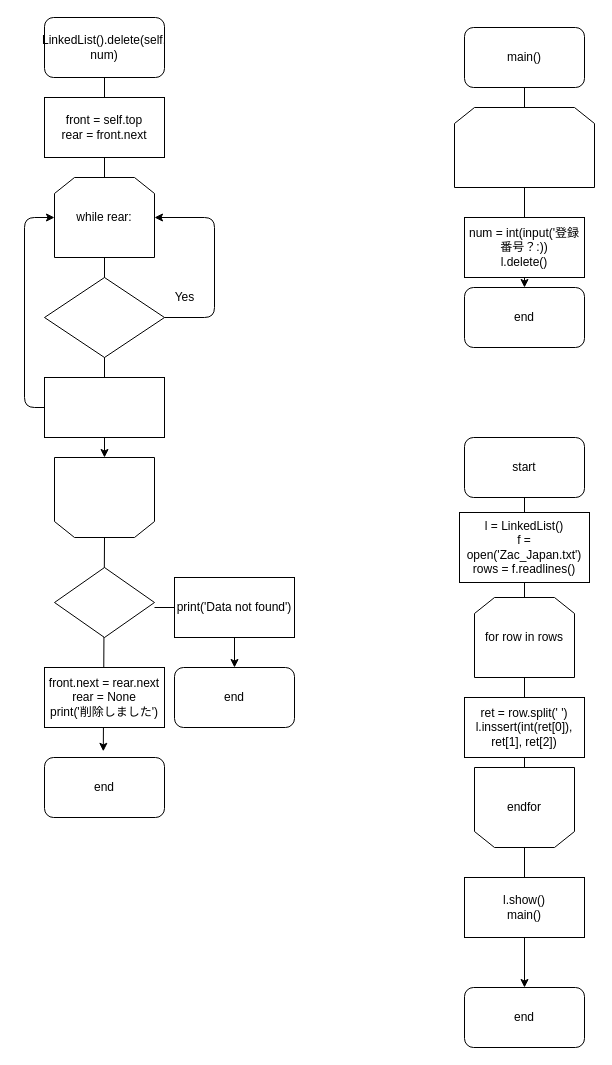
This 612x1065 diagram has some shape labels left out. The shapes that lost their labels are listed below. From the top down, each one's centre as x and y in pixels, then its label:
At (524,147): "while num != 0".
At (104,317): "rear.num == num".
At (104,407): "front = rear rear = rear.next".
At (104,497): "endwhile".
At (104,602): "if not rear".
